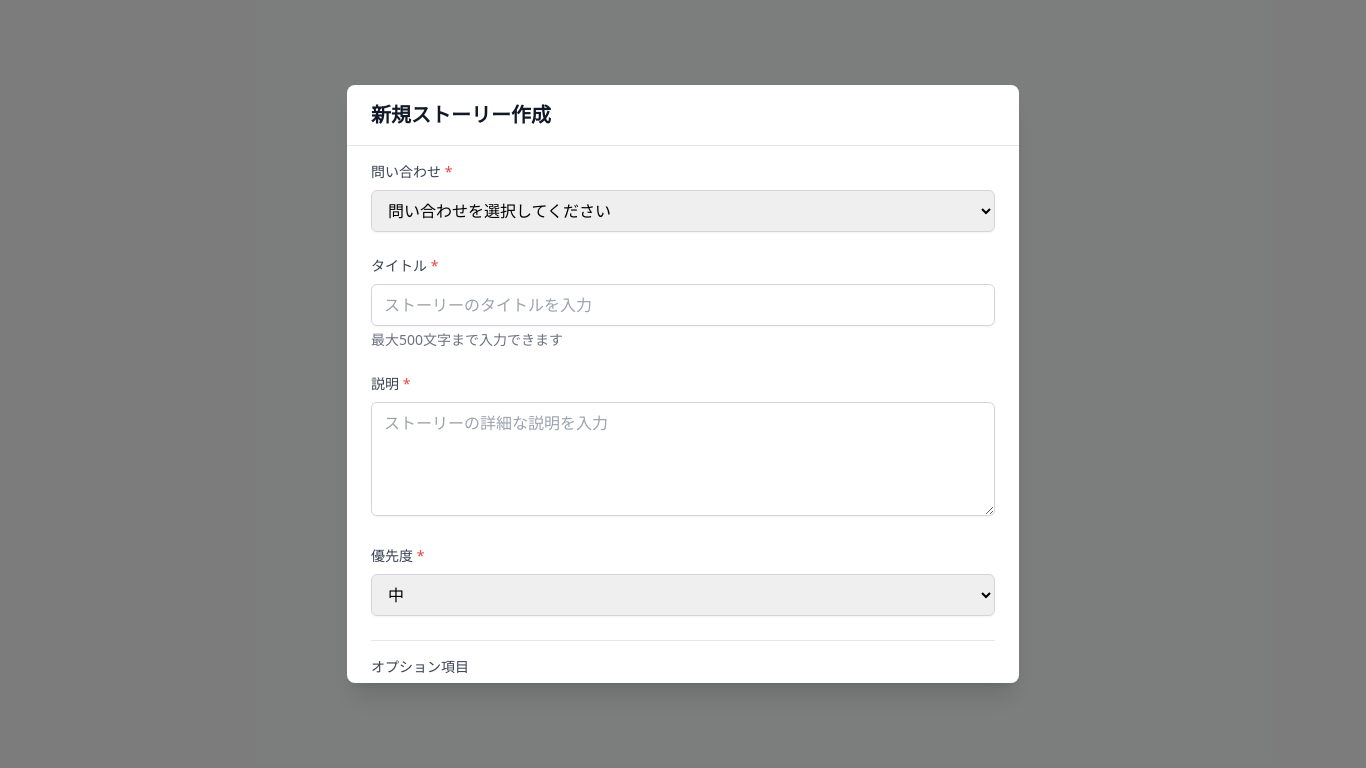
StoryForm › バリデーション › タイトルが空の場合、バリデーションエラーが表示されること
# 問い合わせを選択
Select "ログイン機能を追加してほしい" in the dropdown labelled "問い合わせ *" at (683, 211), box [371, 190, 995, 232]
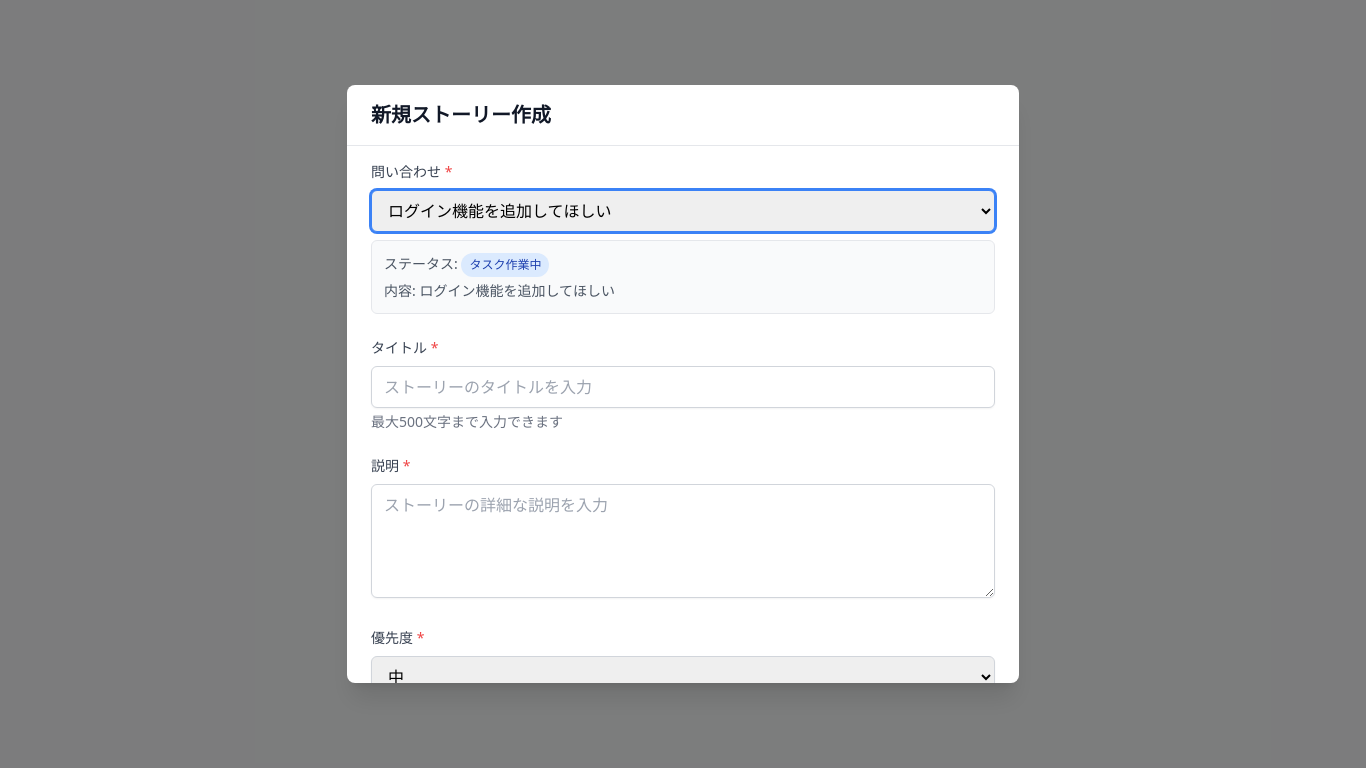
# 説明のみ入力し、タイトルは空のまま
Type "テストの説明です" into the text box labelled "説明 *".
click(683, 541); type("テストの説明です")  # box [371, 484, 995, 598]
(page scrolled)
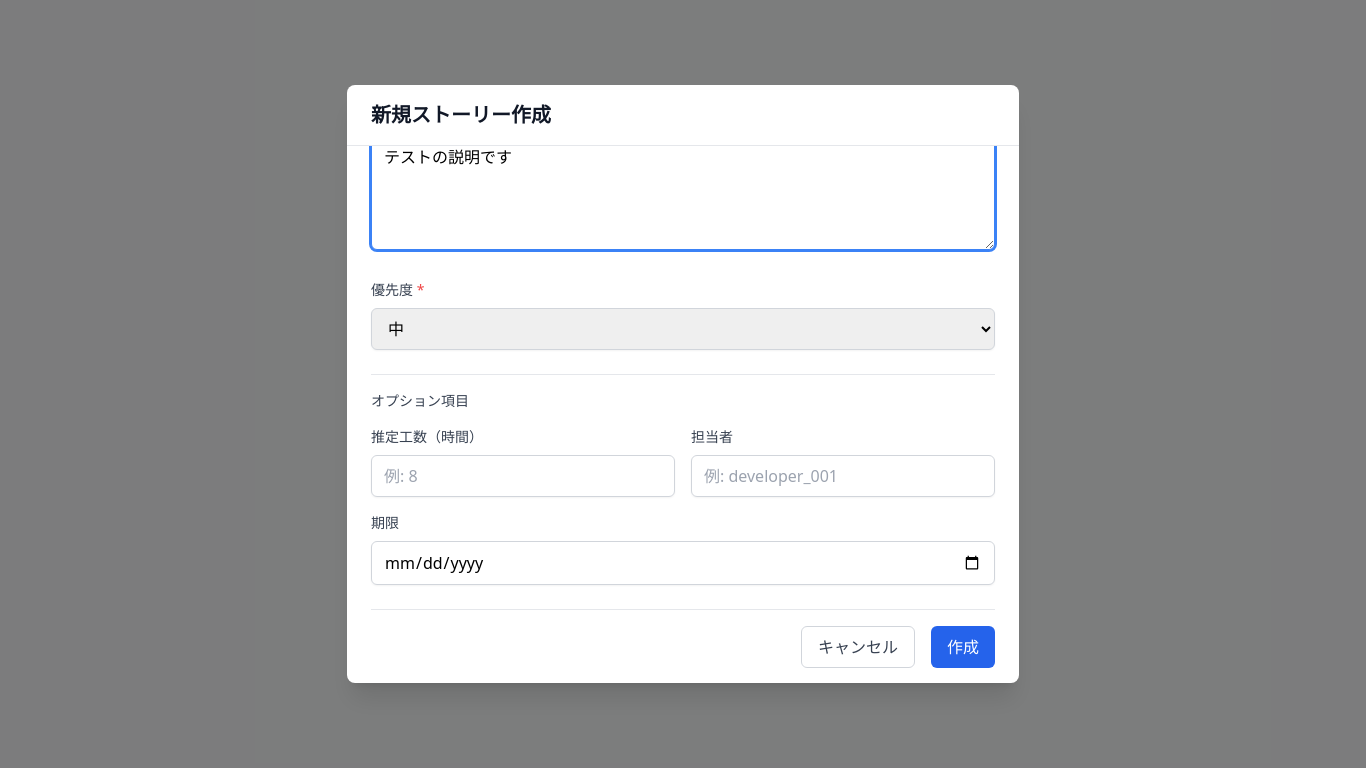
# 送信ボタンをクリック
Click the button "作成".
click(963, 647)  # box [931, 626, 995, 668]
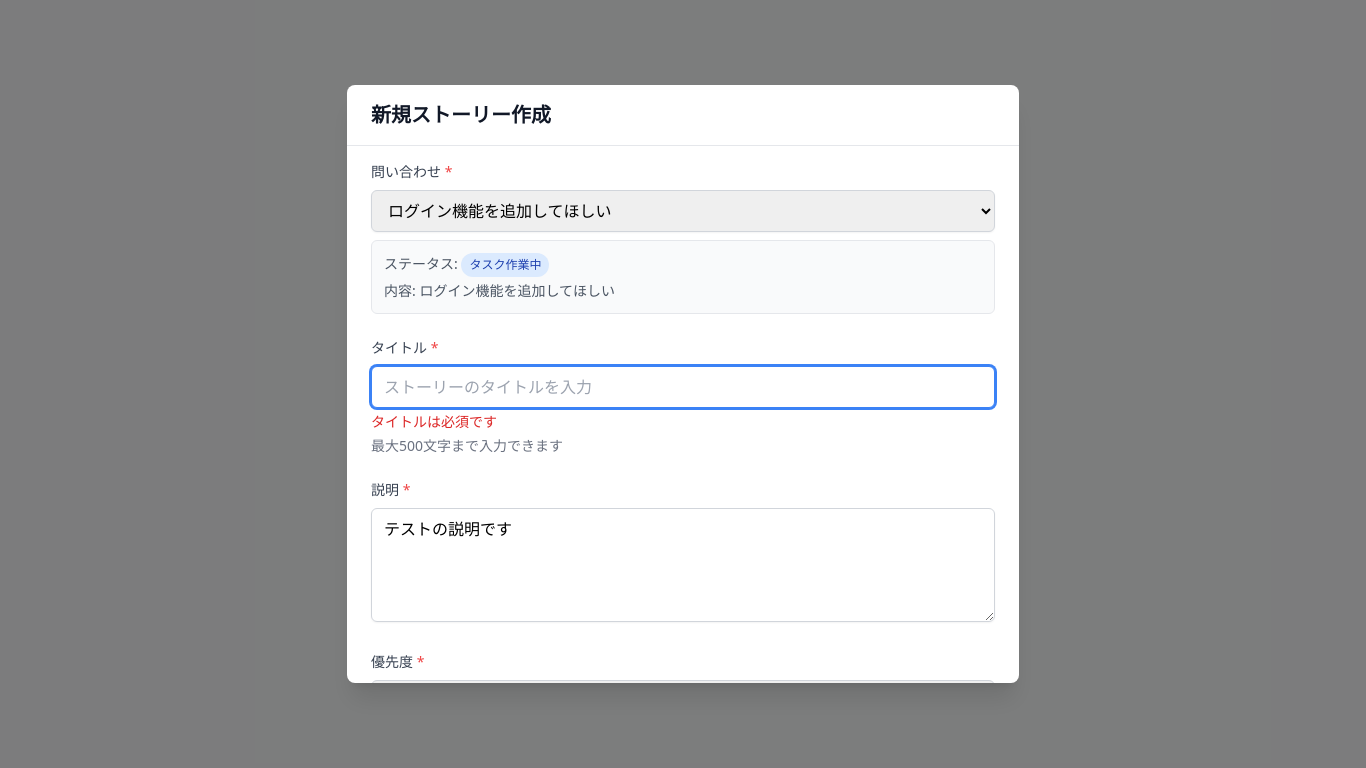
Expected: the text "タイトルは必須です" is shown, [371, 412, 497, 431]
